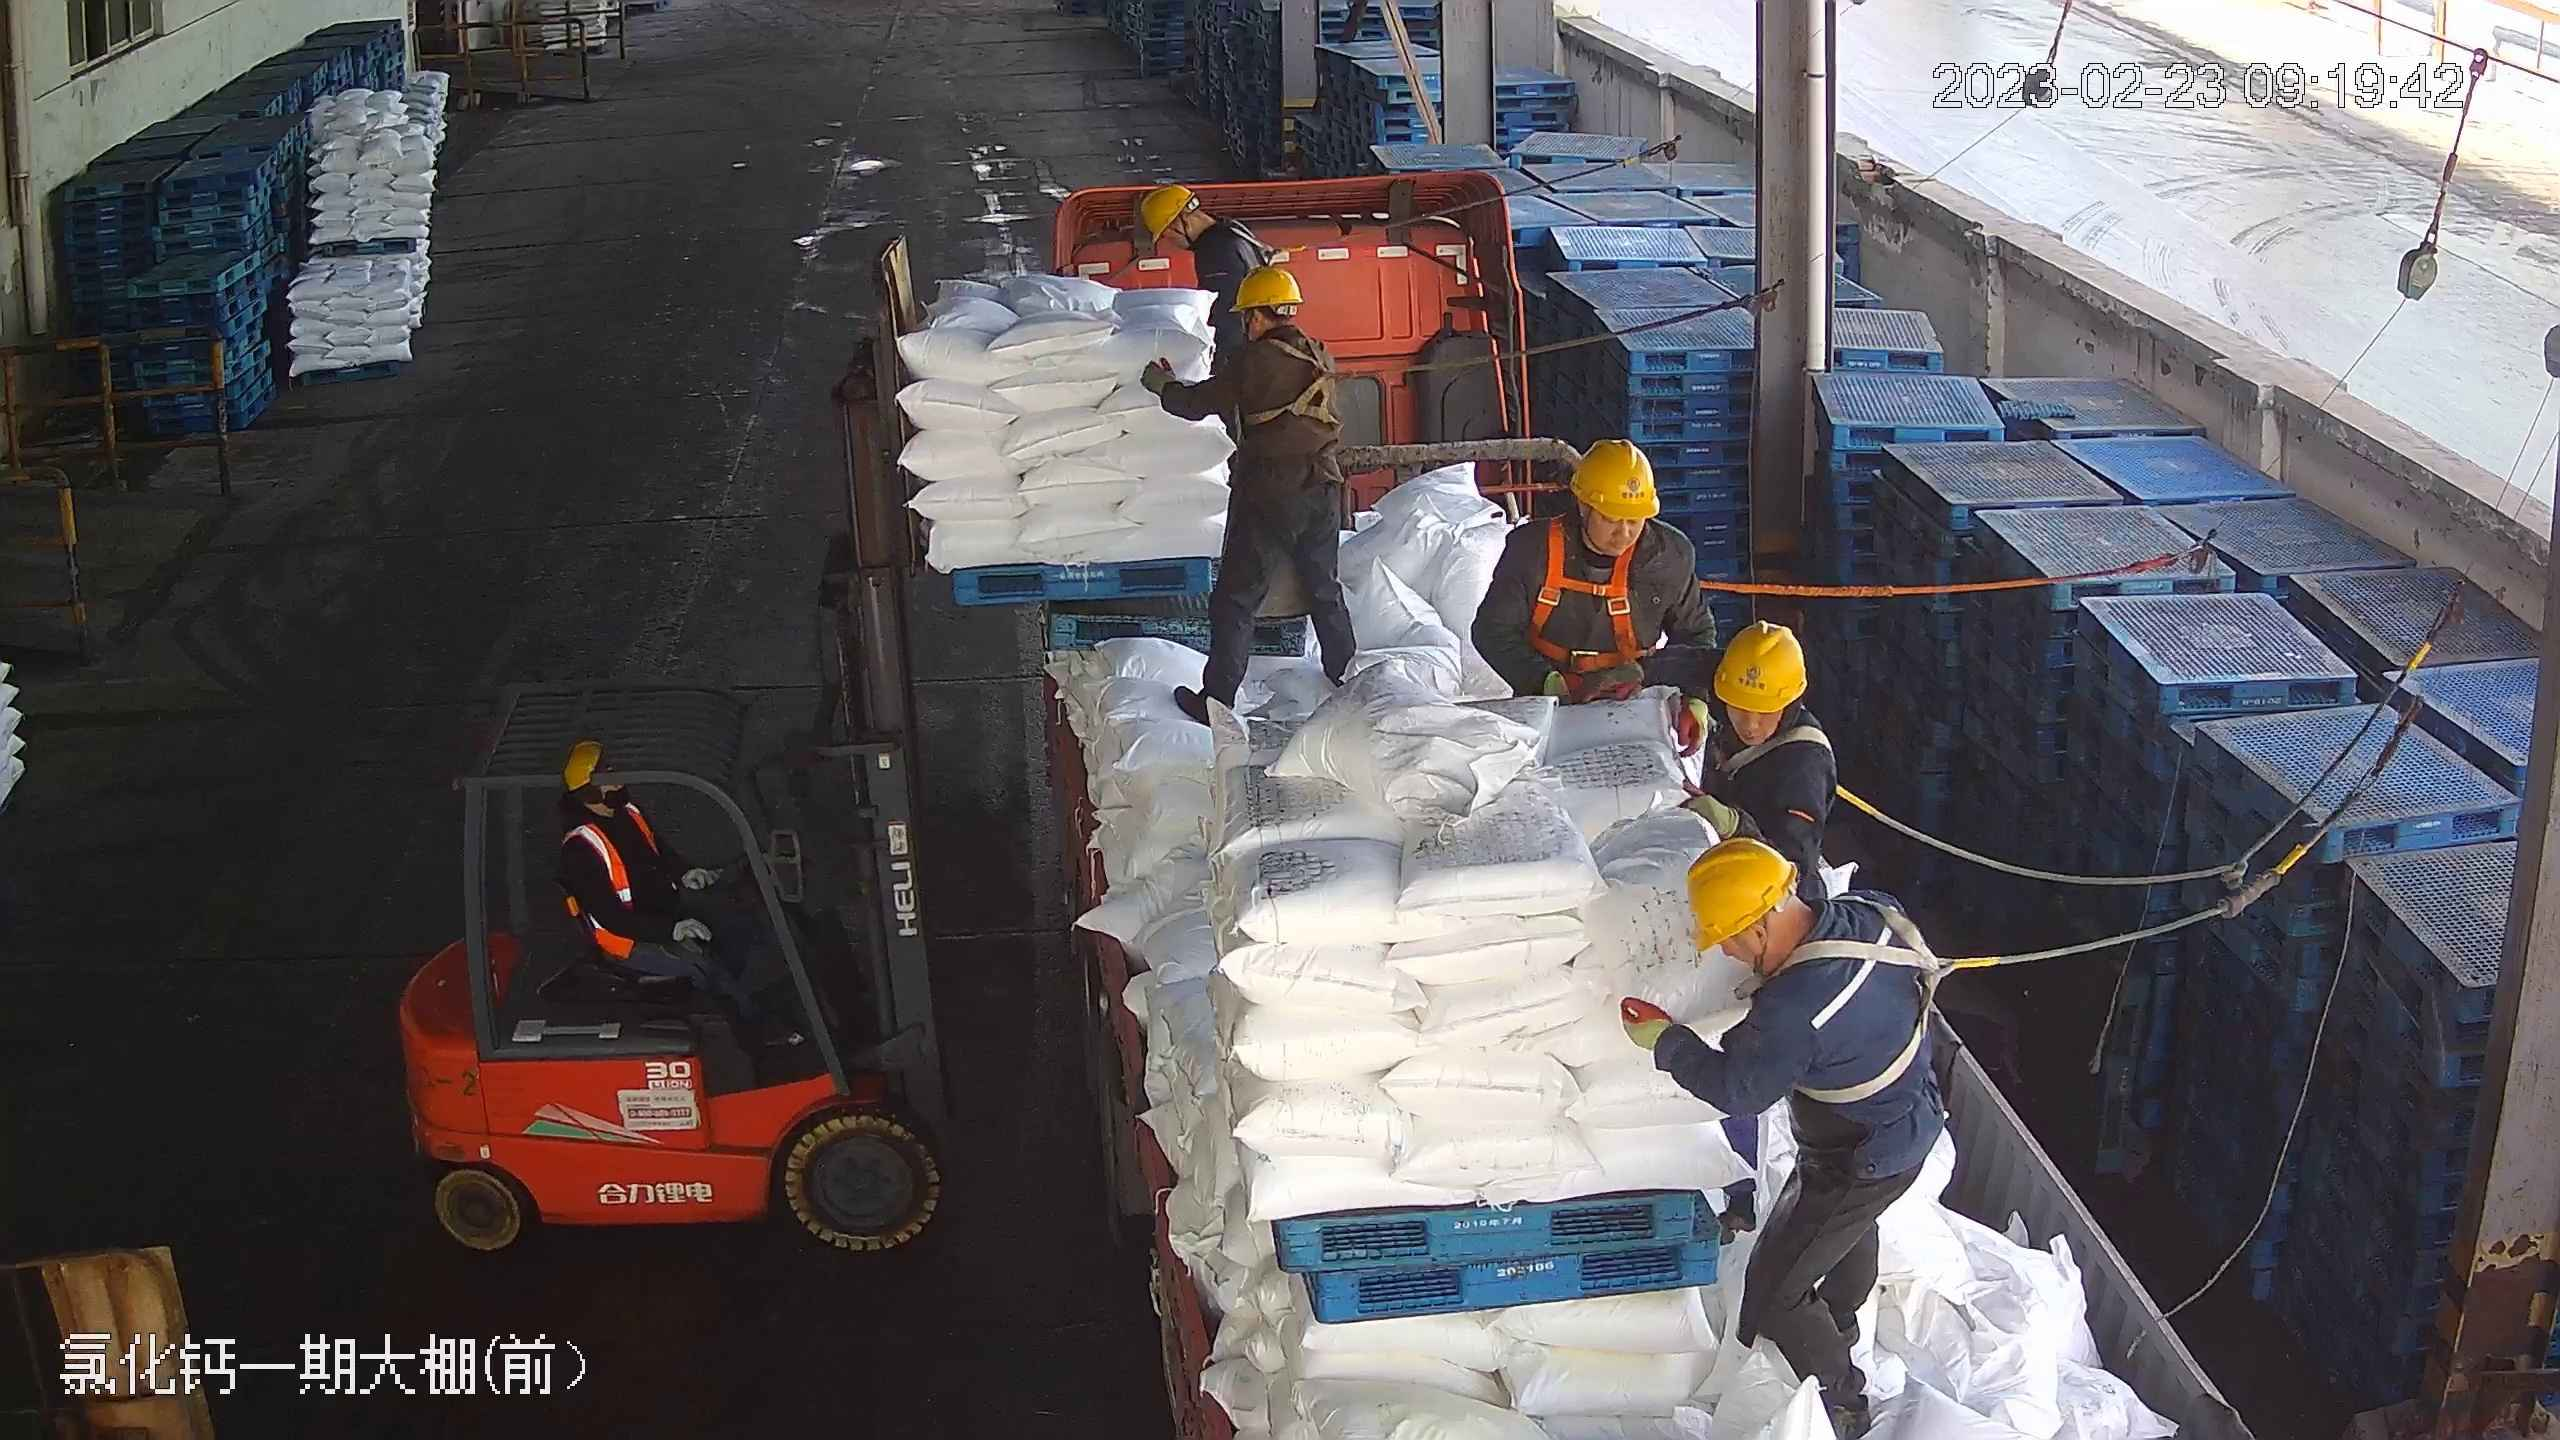belt: (1760, 902, 1976, 1108), (1531, 517, 1664, 677), (1712, 707, 1858, 817), (1245, 324, 1361, 429), (1216, 220, 1294, 272)
head: (1682, 839, 1912, 1061), (1503, 434, 1691, 604), (1696, 620, 1840, 798), (1223, 265, 1332, 391), (557, 736, 650, 869), (1143, 184, 1251, 270)
helmet: (1686, 836, 1797, 953), (1711, 621, 1808, 710), (1569, 435, 1659, 517), (1230, 260, 1301, 308), (1141, 184, 1194, 238), (560, 735, 604, 789)
people: (1624, 835, 1935, 1434), (1139, 264, 1357, 719), (554, 735, 807, 1046), (1475, 428, 1715, 714)
truck: (1028, 173, 2245, 1438)
